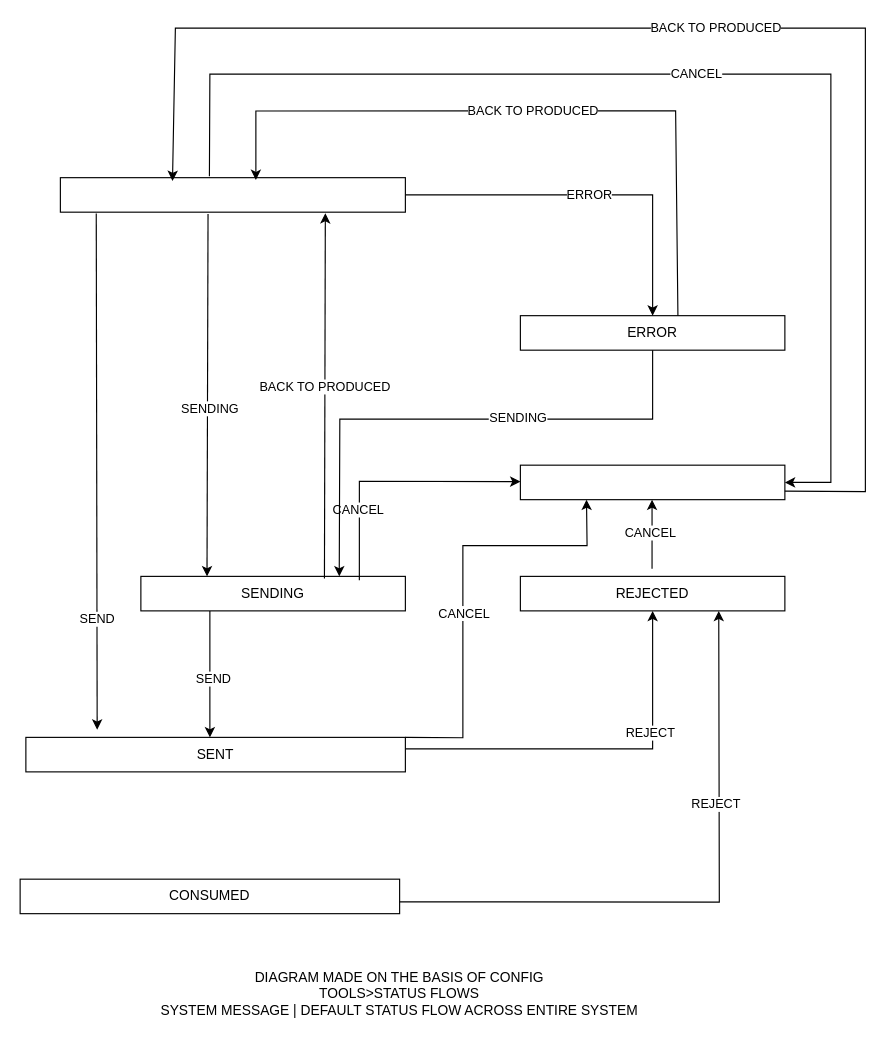
The diagram is 895 pixels wide and 1049 high, and some of its shapes have lost their labels. Here are the shapes that lost their labels. From the top down, the centre of each, then its label:
At [232,194]: "PRODUCED".
At [652,482]: "CANCELLED".
